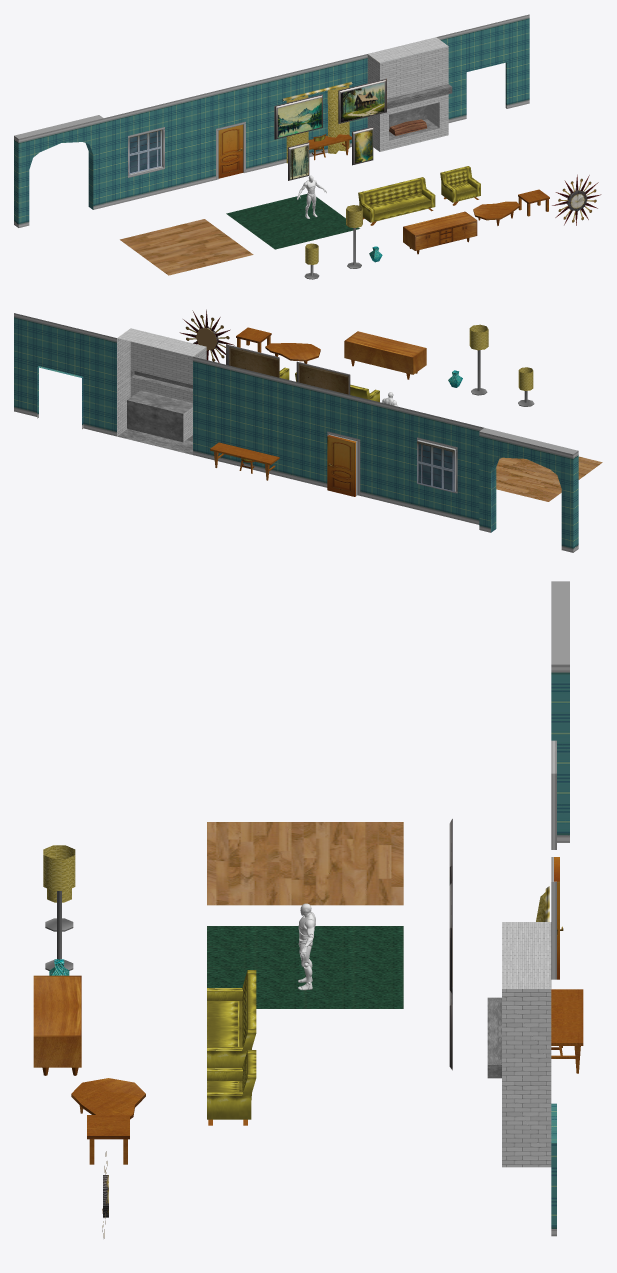
Rendered from curtains.fbx.
3 renders of one model, top to bottom at view 1: azimuth 30°, elevation 25°; view 2: azimuth 150°, elevation 25°; view 3: azimuth 270°, elevation 25°, orthographic. The views are drawn at different scales.
Visible parts, largest first — view 1: wall_fireplace, wall_window, wall_doorway, wall_archway, wall_archway2, floor, floor2, wall, sofa, credenza, painting, painting.001 (+12 smaller); view 2: wall_fireplace, wall_window, wall, wall_doorway, wall_archway, wall_archway2, floor, credenza, wall_half, retro_door, painting, painting.001 (+7 smaller); view 3: floor, floor2, wall_fireplace, credenza, wall_archway2, sofa, sofa_chair, coffee_table, dining_table, lamp, end_table, SK_Mannequin_LOD0.
Boxes of the visible parts, left/top/right/bottom form: wall_fireplace: left=359, top=35, right=452, bottom=151; wall_window: left=104, top=97, right=188, bottom=207; wall_doorway: left=189, top=77, right=274, bottom=186; wall_archway: left=444, top=14, right=529, bottom=122; wall_archway2: left=14, top=115, right=103, bottom=227; floor: left=120, top=219, right=253, bottom=275; floor2: left=226, top=193, right=359, bottom=249; wall: left=274, top=56, right=359, bottom=165; sofa: left=358, top=177, right=435, bottom=225; credenza: left=403, top=211, right=477, bottom=254; painting: left=274, top=94, right=322, bottom=139; painting.001: left=338, top=78, right=386, bottom=123; wall_fireplace: left=108, top=328, right=206, bottom=457; wall_window: left=390, top=405, right=483, bottom=524; wall: left=202, top=359, right=296, bottom=479; wall_doorway: left=296, top=382, right=390, bottom=502; wall_archway: left=14, top=313, right=107, bottom=434; wall_archway2: left=479, top=428, right=578, bottom=552; floor: left=496, top=456, right=602, bottom=501; credenza: left=344, top=331, right=426, bottom=379; wall_half: left=202, top=359, right=249, bottom=468; retro_door: left=327, top=435, right=356, bottom=496; painting: left=296, top=361, right=350, bottom=394; painting.001: left=226, top=344, right=279, bottom=377; floor: left=207, top=822, right=403, bottom=905; floor2: left=207, top=926, right=403, bottom=1008; wall_fireplace: left=487, top=922, right=551, bottom=1167; credenza: left=33, top=975, right=81, bottom=1075; wall_archway2: left=551, top=581, right=569, bottom=842; sofa: left=207, top=970, right=256, bottom=1067; sofa_chair: left=207, top=1050, right=256, bottom=1125; coffee_table: left=71, top=1078, right=145, bottom=1119; dining_table: left=551, top=989, right=583, bottom=1073; lamp: left=43, top=845, right=75, bottom=970; end_table: left=87, top=1115, right=129, bottom=1164; SK_Mannequin_LOD0: left=298, top=903, right=315, bottom=990.
Size of the model in its own units: 2400 by 523 by 1118.
4 materials, 4 textured.
